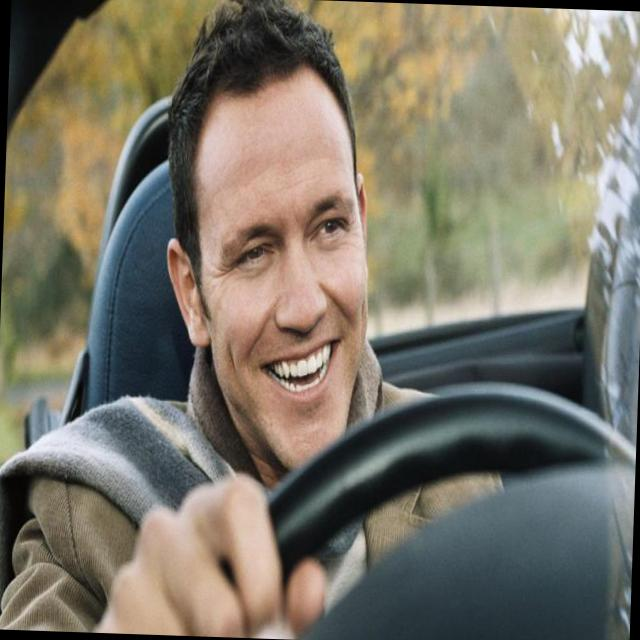Focused: (185, 103, 372, 480)
